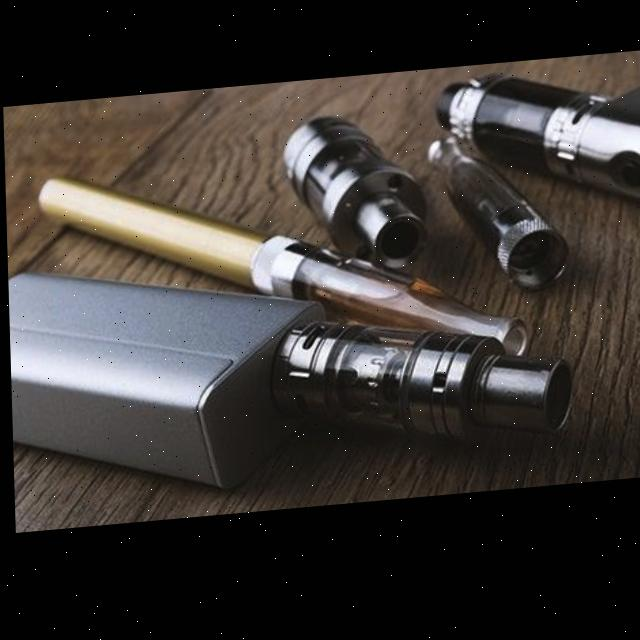vape: (6, 268, 587, 495), (25, 172, 549, 382), (433, 71, 640, 230), (426, 133, 572, 312), (282, 114, 428, 283)
